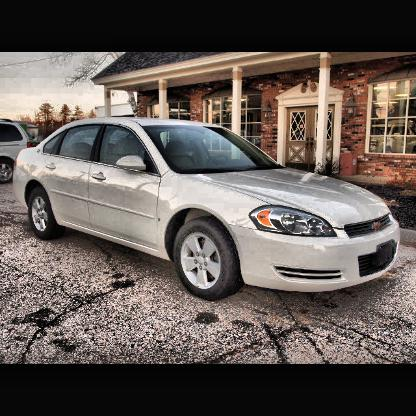Chevrolet Impala Sedan 2007: (14, 119, 402, 304)
